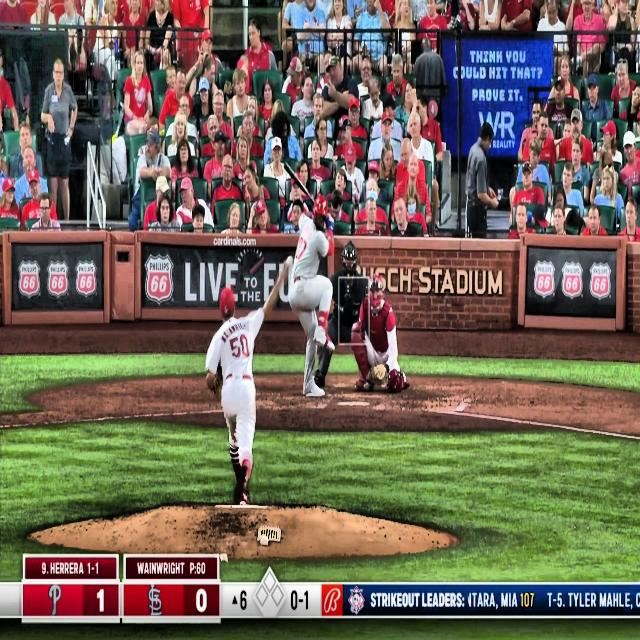baseball: (286, 254, 294, 270)
